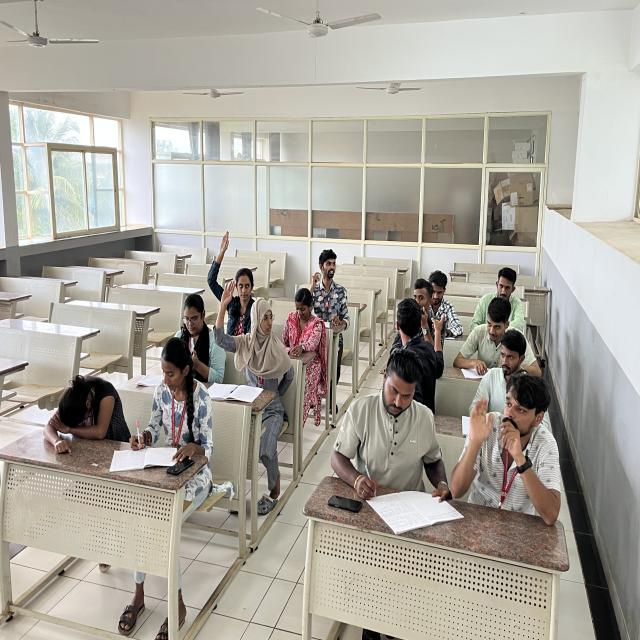Hand Rising: (213, 274, 288, 380), (207, 230, 267, 308)
Sleeping: (41, 366, 127, 439)
Writing: (332, 356, 450, 522), (119, 342, 207, 468)
